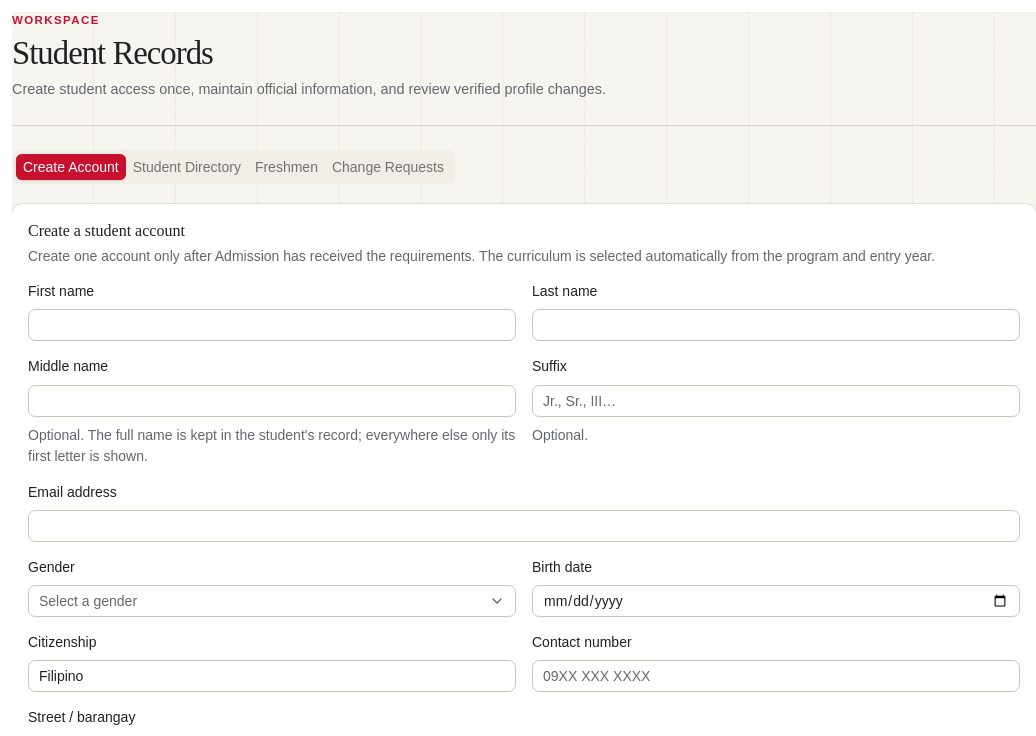
Admission Freshmen tab › asks only for freshmen and shows who has paid, when, and where each one is
The width and height of the screenshot is (1036, 736).
Click the tab "Freshmen" at (286, 167), box x1=248 y1=154 x2=325 y2=180
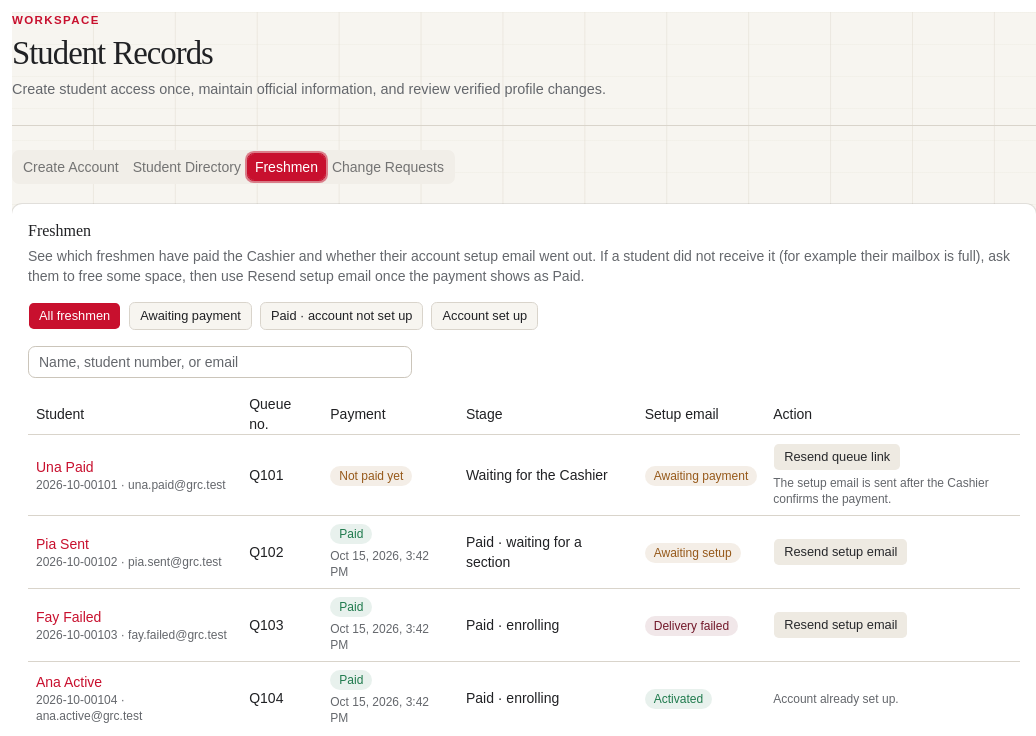
Result: the text "Q101" is shown at x1=241 y1=435 x2=322 y2=516
Result: the text "Not paid yet" is shown at x1=330 y1=466 x2=412 y2=486
Result: the text "Waiting for the Cashier" is shown at x1=458 y1=435 x2=637 y2=516
